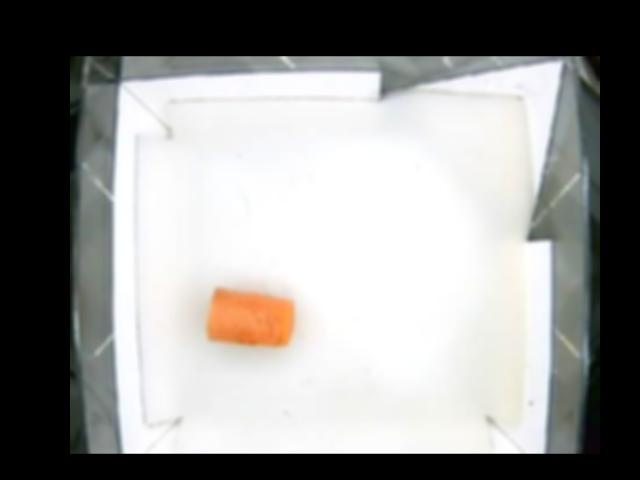Carrot: (205, 285, 294, 345)
